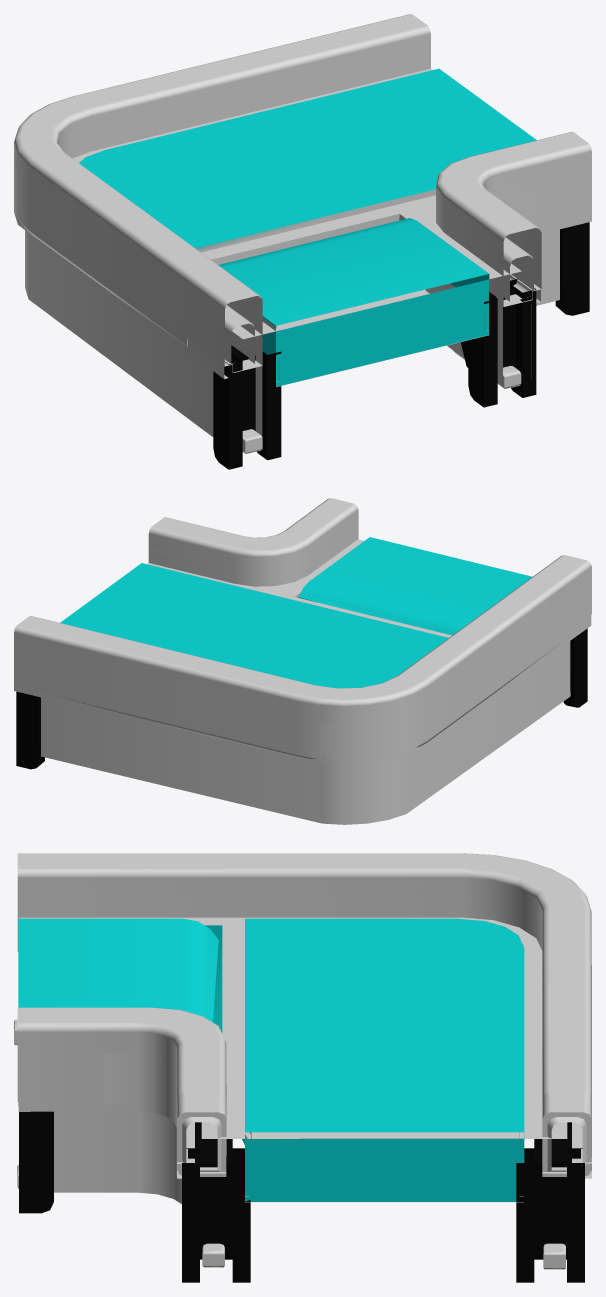
The model's file is BeltDefaultRightInternalVariant.gltf.
The picture shows the model from 3 angles, top to bottom: view 1: azimuth 30°, elevation 25°; view 2: azimuth 150°, elevation 25°; view 3: azimuth 270°, elevation 25°; orthographic projection. The views are drawn at different scales.
Parts seen in each view (by area): view 1: Belt_RightCorner_LOD0, Belt_RightCorner_Border_Layer0_LOD0, Belt_RightCorner_Border_Layer1_LOD0, Belt_RightCorner_Border_Layer2_LOD0; view 2: Belt_RightCorner_Border_Layer0_LOD0, Belt_RightCorner_LOD0, Belt_RightCorner_Border_Layer1_LOD0, Belt_RightCorner_Border_Layer2_LOD0; view 3: Belt_RightCorner_LOD0, Belt_RightCorner_Border_Layer0_LOD0, Belt_RightCorner_Border_Layer1_LOD0, Belt_RightCorner_Border_Layer2_LOD0.
Boxes of the visible parts, box(x1,y1,x2,y2) form: Belt_RightCorner_LOD0: box(73, 68, 536, 339); Belt_RightCorner_Border_Layer0_LOD0: box(14, 14, 591, 436); Belt_RightCorner_Border_Layer1_LOD0: box(18, 14, 591, 469); Belt_RightCorner_Border_Layer2_LOD0: box(14, 135, 533, 387); Belt_RightCorner_Border_Layer0_LOD0: box(14, 498, 591, 824); Belt_RightCorner_LOD0: box(60, 537, 532, 688); Belt_RightCorner_Border_Layer1_LOD0: box(14, 498, 591, 769); Belt_RightCorner_Border_Layer2_LOD0: box(27, 550, 560, 760); Belt_RightCorner_LOD0: box(18, 917, 567, 1138); Belt_RightCorner_Border_Layer0_LOD0: box(18, 853, 591, 1203); Belt_RightCorner_Border_Layer1_LOD0: box(14, 853, 591, 1282); Belt_RightCorner_Border_Layer2_LOD0: box(18, 900, 591, 1202).
Bounding box in the file's own units: 0.7911 × 0.2874 × 0.7908.
